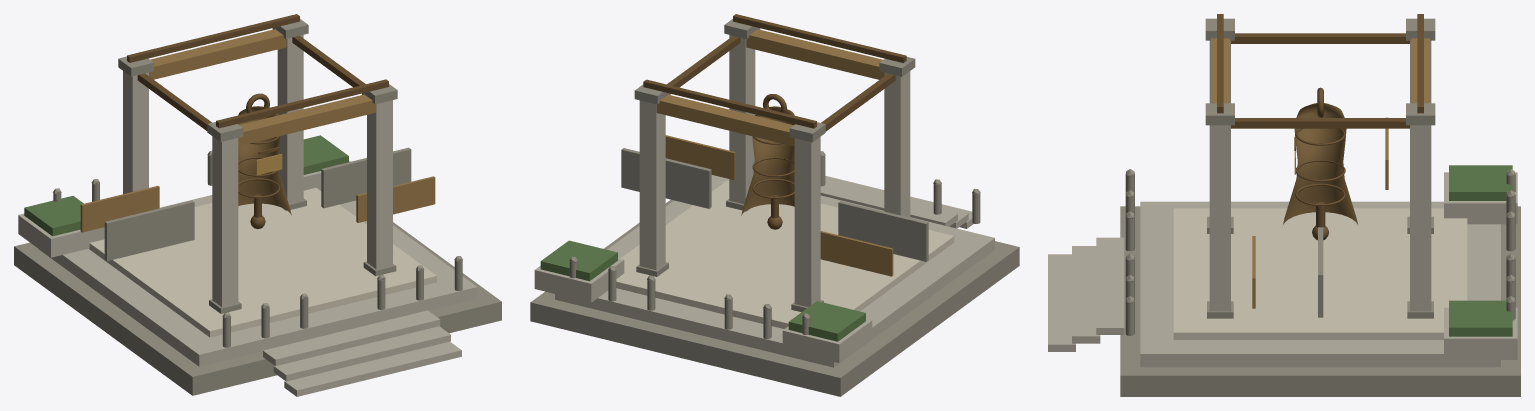
The picture shows the model from 3 angles, left to right: view 1: azimuth 30°, elevation 25°; view 2: azimuth 150°, elevation 25°; view 3: azimuth 270°, elevation 25°; orthographic projection. The views are drawn at different scales.
Bounding box in the file's own units: 0.3014 × 0.209 × 0.3556.
